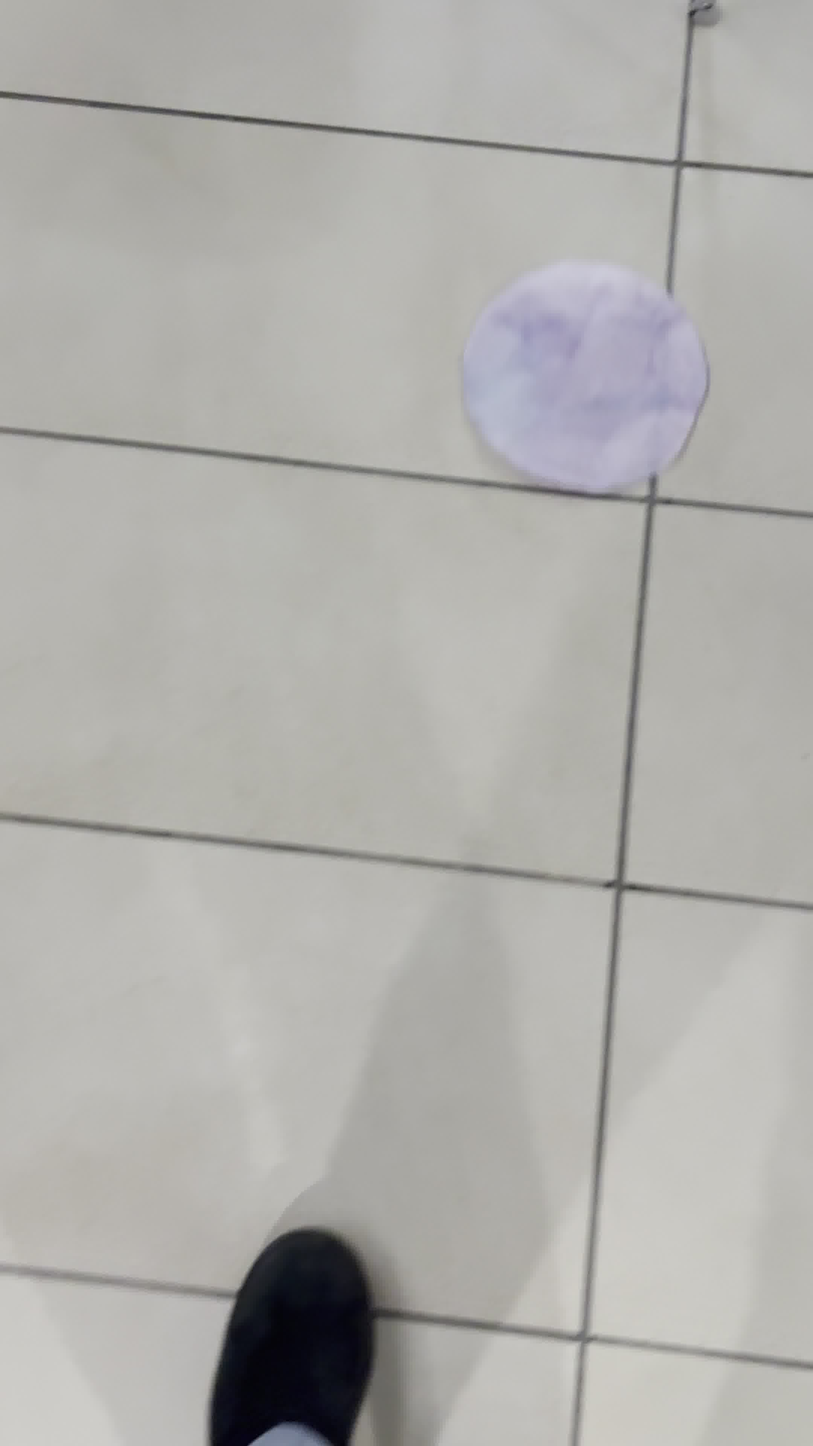Target: (443, 260, 714, 495)
